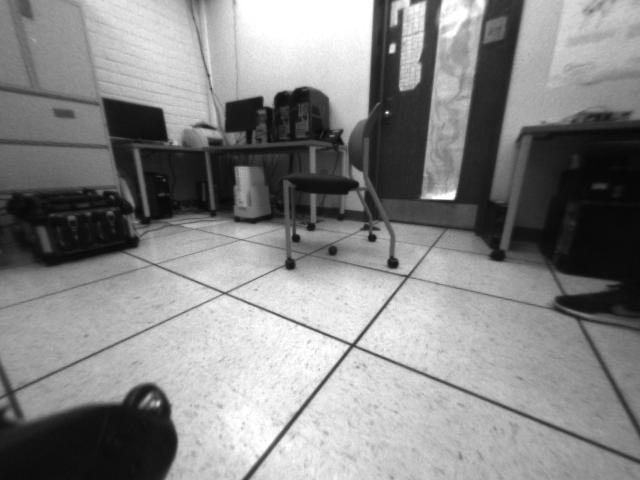dogtoy: (325, 239, 345, 259)
